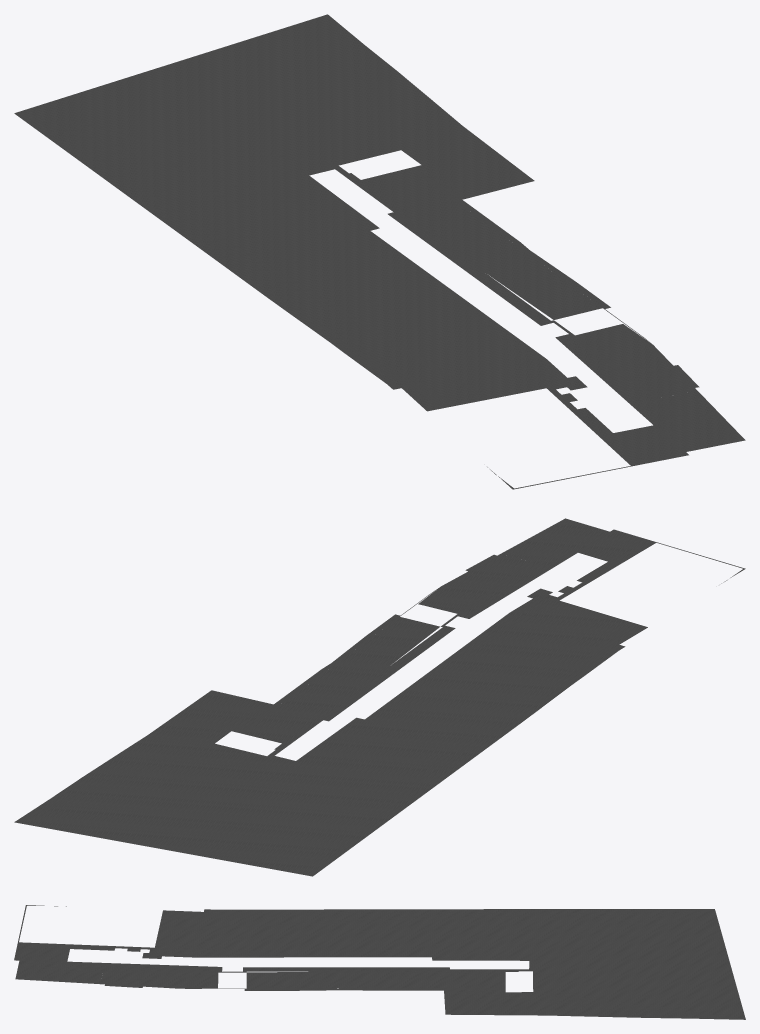
File: zemin.fbx
The picture shows the model from 3 angles, top to bottom: view 1: azimuth 30°, elevation 25°; view 2: azimuth 150°, elevation 25°; view 3: azimuth 270°, elevation 25°; orthographic projection. The views are drawn at different scales.
Visible parts, largest first — view 1: 3.Kat.003; view 2: 3.Kat.003; view 3: 3.Kat.003.
Boxes of the visible parts, <box> form: 3.Kat.003: <box>14,14,745,489</box>; 3.Kat.003: <box>14,518,745,876</box>; 3.Kat.003: <box>14,905,745,1019</box>.
Bounding box in the file's own units: 3016 × 0.0358 × 8130.
1 material, 1 textured.
